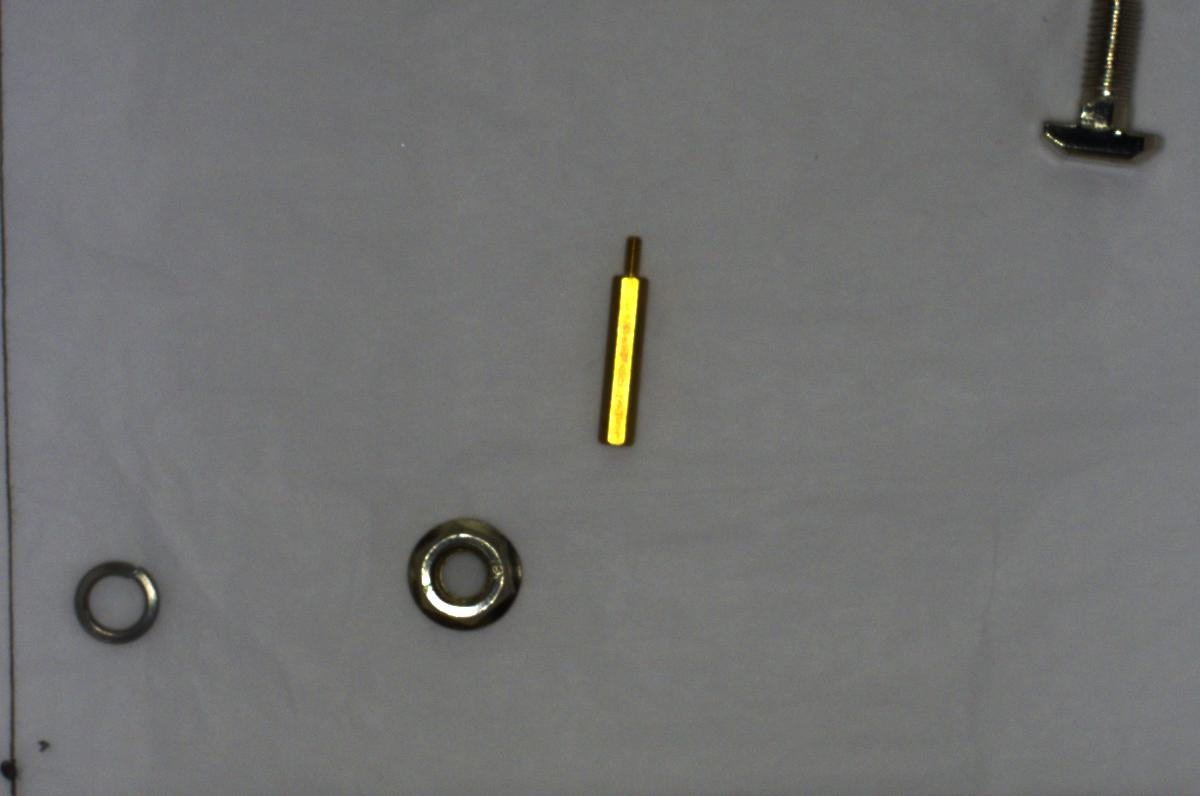Flange nut: (388, 502, 531, 638)
Hexagon pillar: (580, 225, 653, 455)
Spring washer: (62, 547, 171, 647)
T-shaped screw: (1017, 1, 1180, 173)
